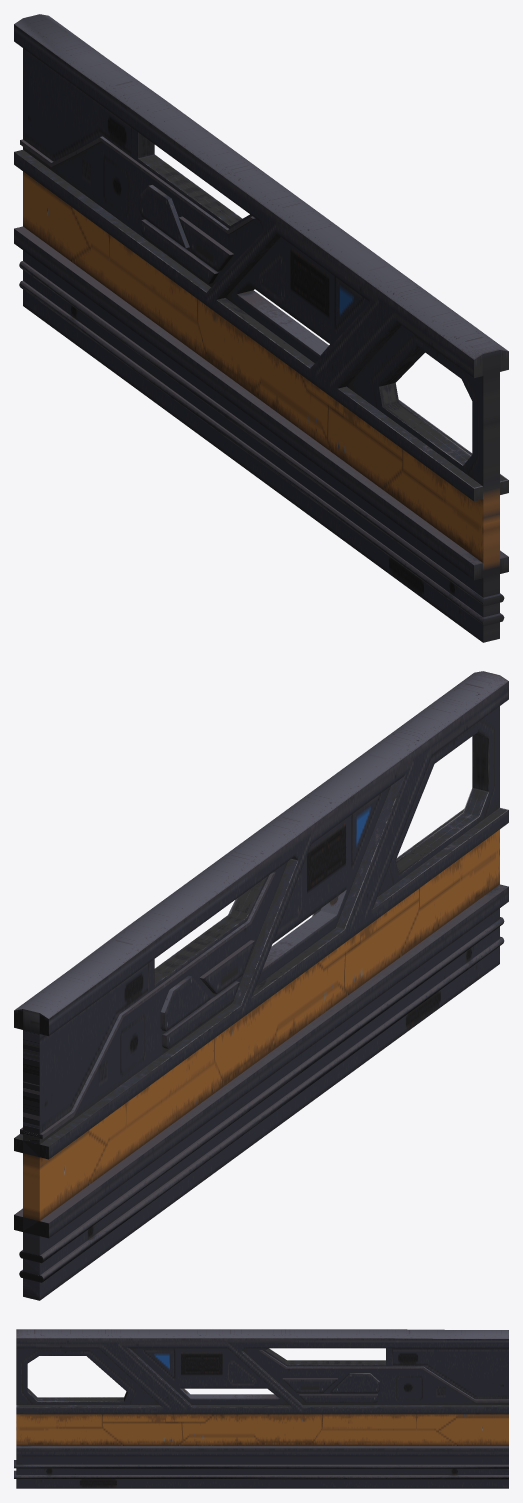
File: bb7cf318-b8c9-48a3-b397-08fae650cfe6.glb
3 views of the same model, one above another, from view 1: azimuth 30°, elevation 25°; view 2: azimuth 150°, elevation 25°; view 3: azimuth 270°, elevation 25° (orthographic). The views are drawn at different scales.
Parts seen in each view (by area): view 1: mediumWall; view 2: mediumWall; view 3: mediumWall.
Part boxes in pixels (box(x1,y1,x2,y2)): mediumWall: box(14, 14, 508, 642); mediumWall: box(14, 671, 508, 1300); mediumWall: box(14, 1329, 508, 1488).
Size of what is drawn, in the model's own units: 1.04 by 8.21 by 23.82.
1 material, 1 textured.
